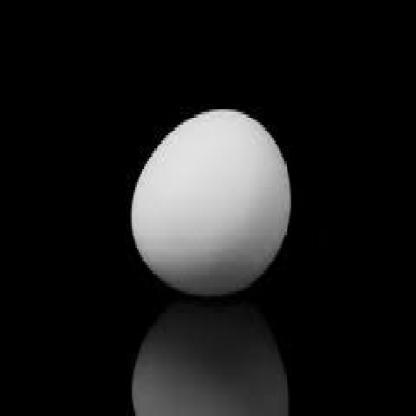egg: (128, 108, 292, 296)
